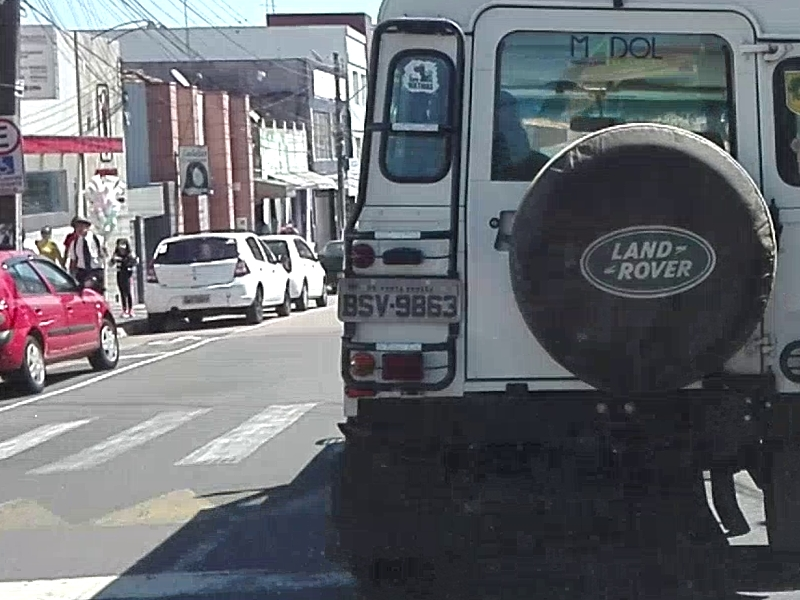placa: (338, 278, 462, 323)
